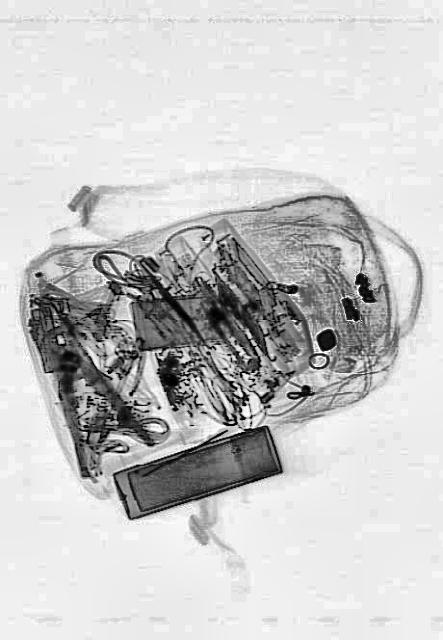Pliers: (21, 298, 153, 494)
